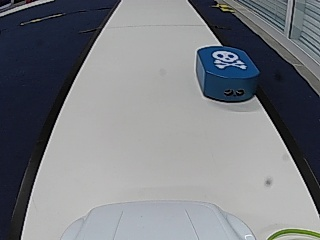danger: (213, 50, 245, 69)
